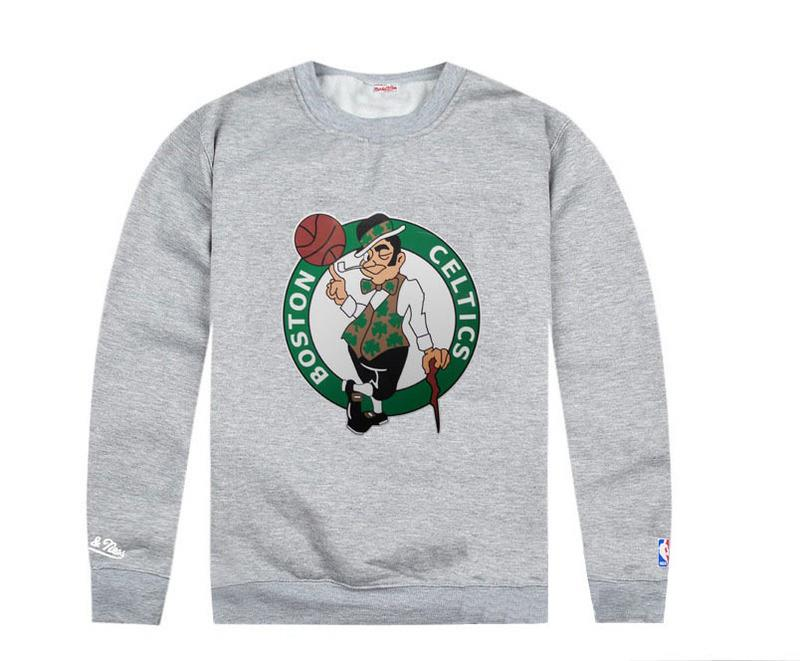Boston_Celtics: (285, 209, 487, 434)
